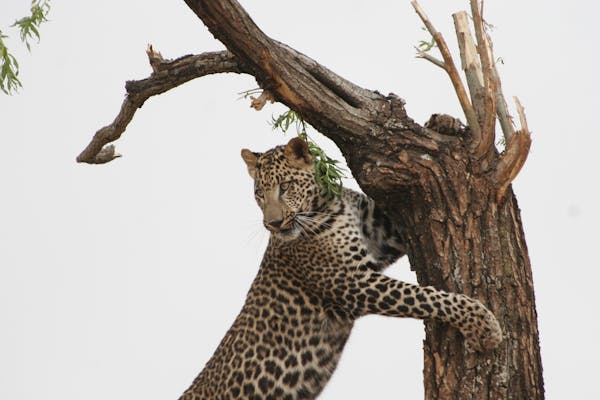Leopard: (177, 137, 504, 400)
